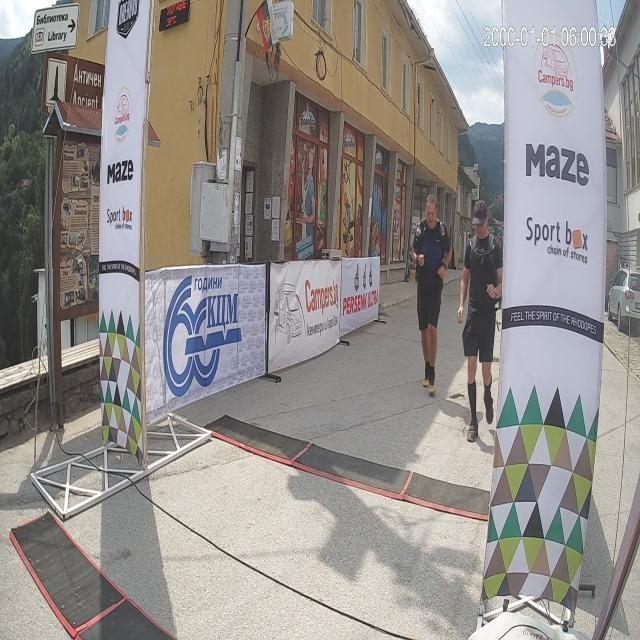runner: (456, 184, 506, 462), (394, 179, 449, 414)
